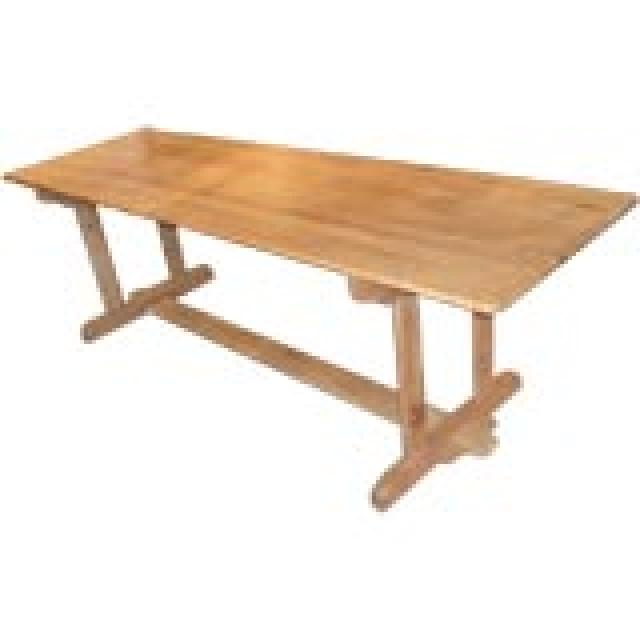table: (4, 125, 635, 515)
